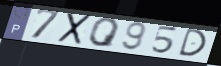5: (150, 24, 181, 54)
7: (29, 8, 62, 41)
9: (120, 21, 149, 52)
D: (176, 28, 208, 58)
Q: (87, 17, 122, 49)
X: (55, 11, 94, 46)
